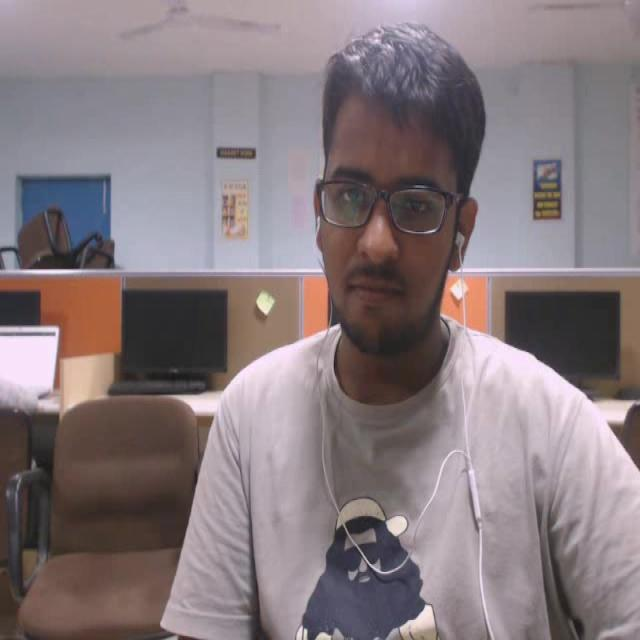Engaged: (289, 21, 522, 363)
